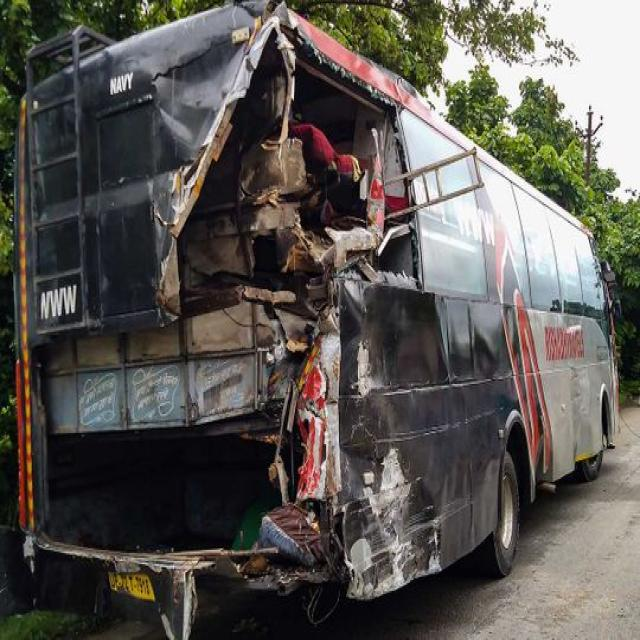accident: (15, 0, 619, 638)
